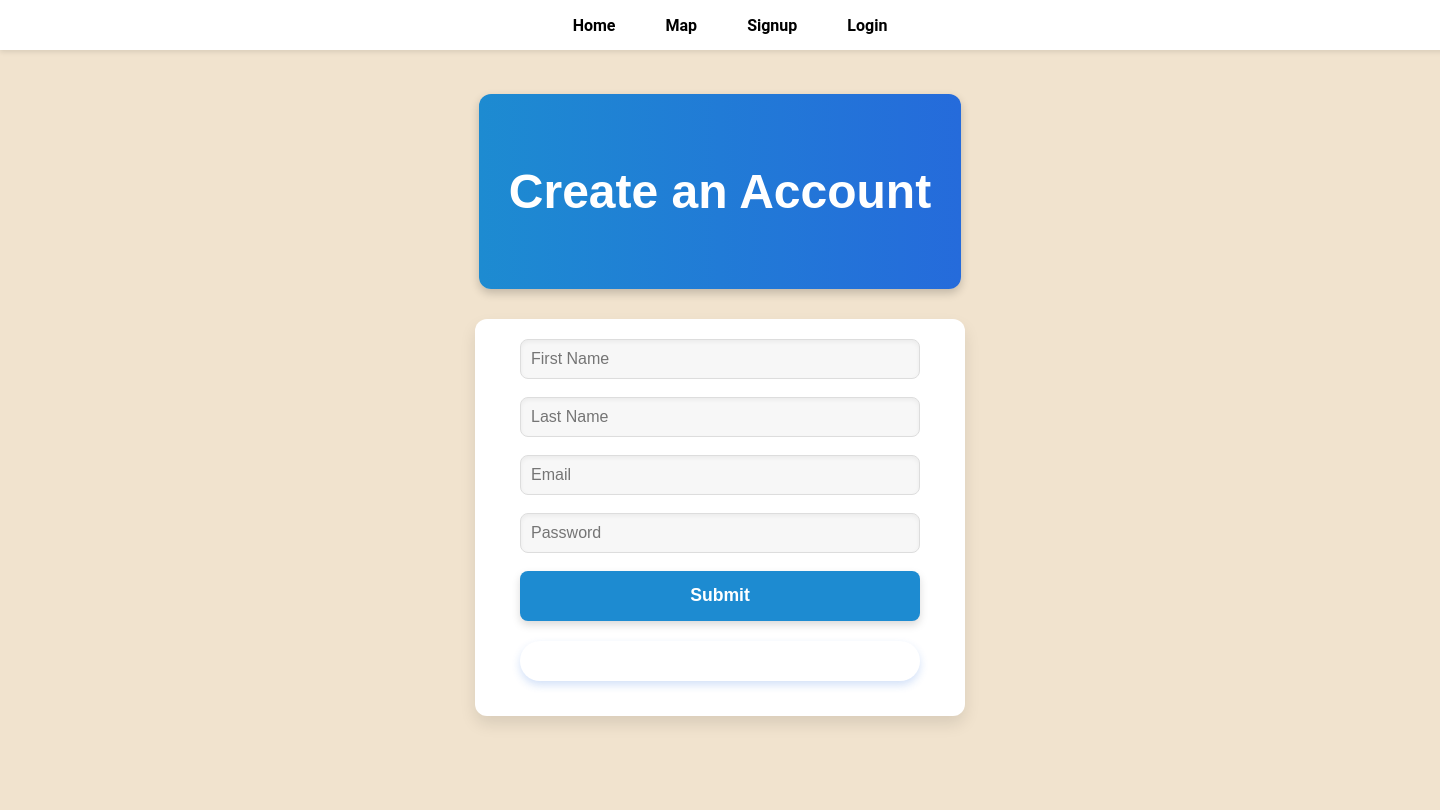
Signup Component › should show error message when email is already taken
The image size is (1440, 810).
Type "John" into the field with placeholder "First Name".
click(720, 359); type("John")  # box [520,339,920,379]
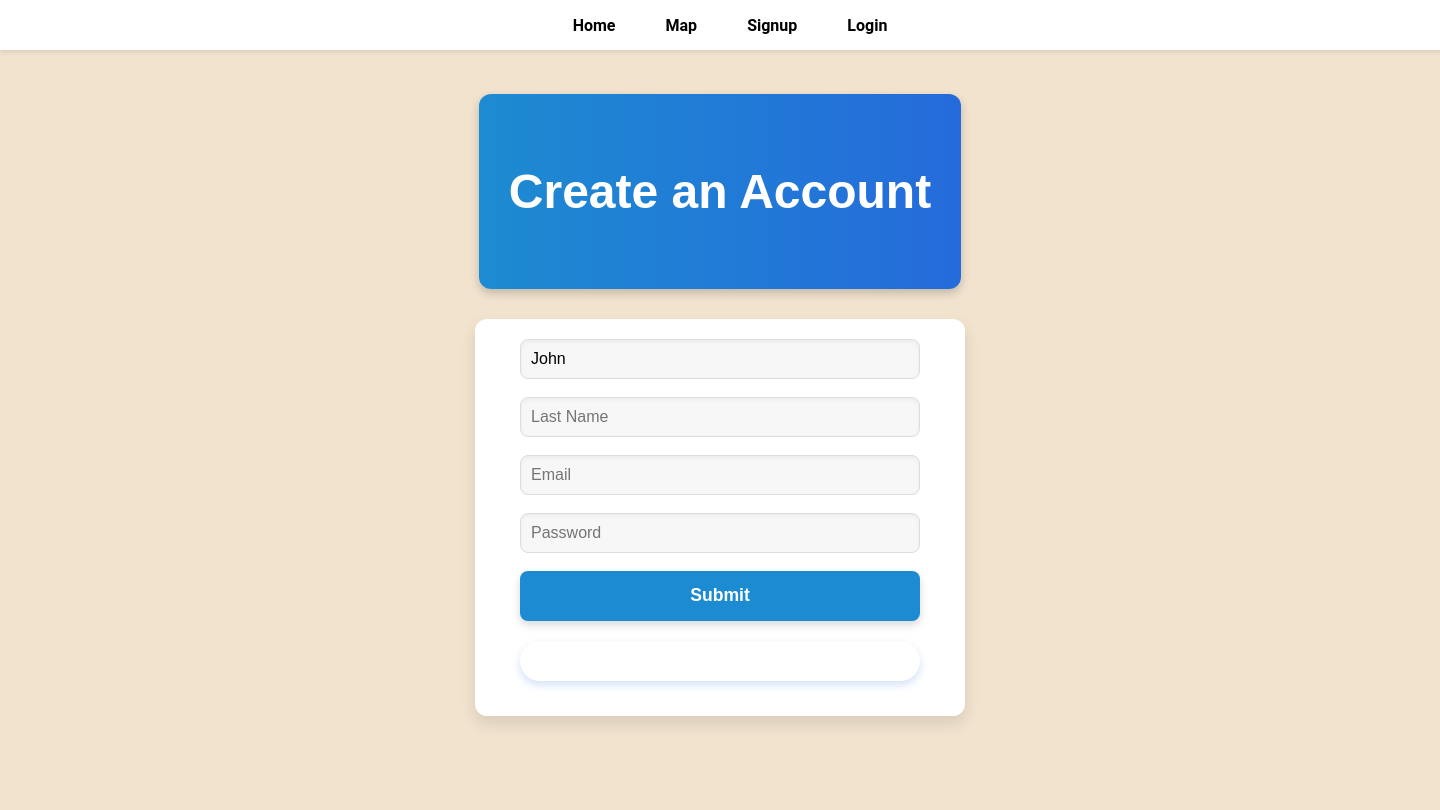
Type "Doe" into the field with placeholder "Last Name".
click(720, 417); type("Doe")  # box [520,397,920,437]
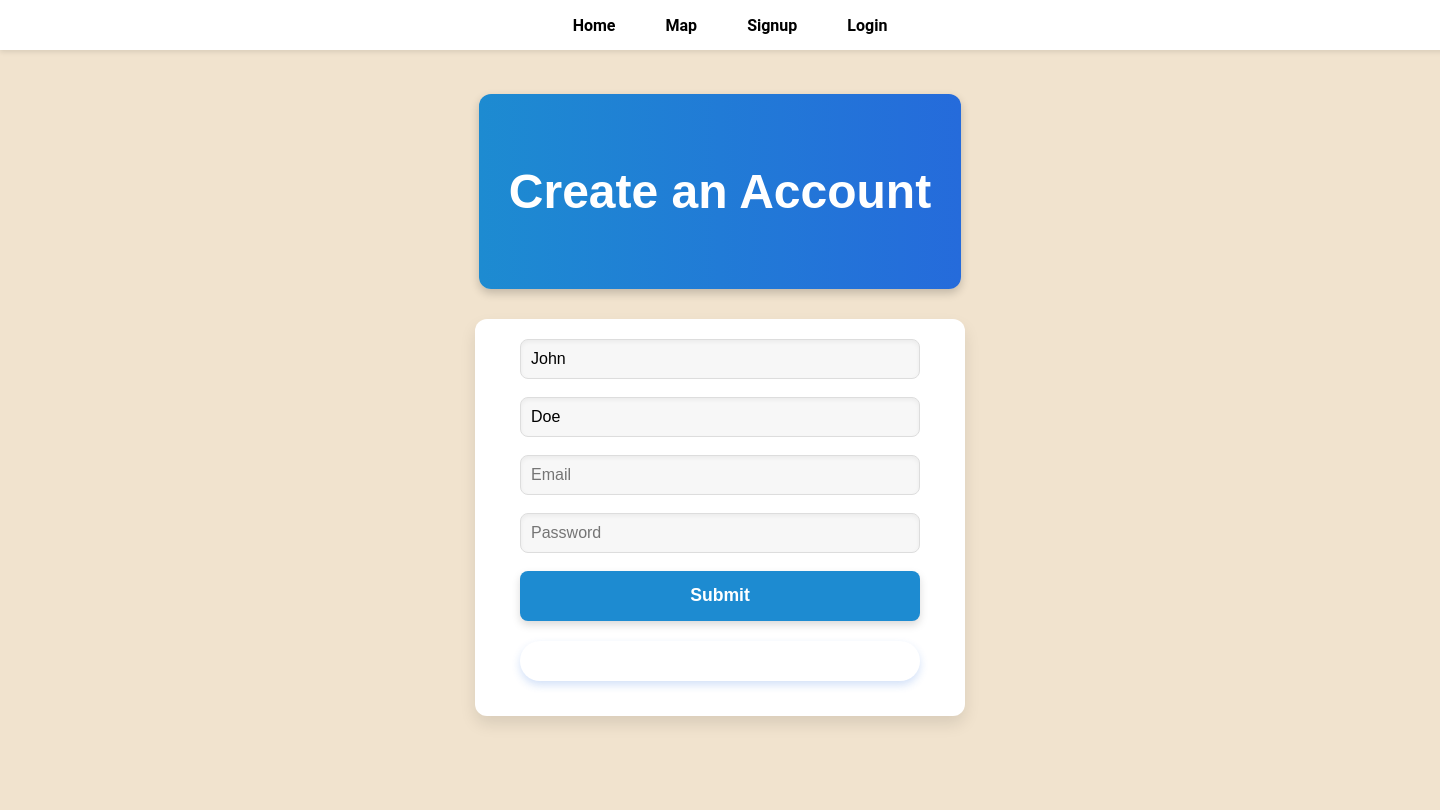
Type "johndoe@test.com" into the field with placeholder "Email".
click(720, 475); type("johndoe@test.com")  # box [520,455,920,495]
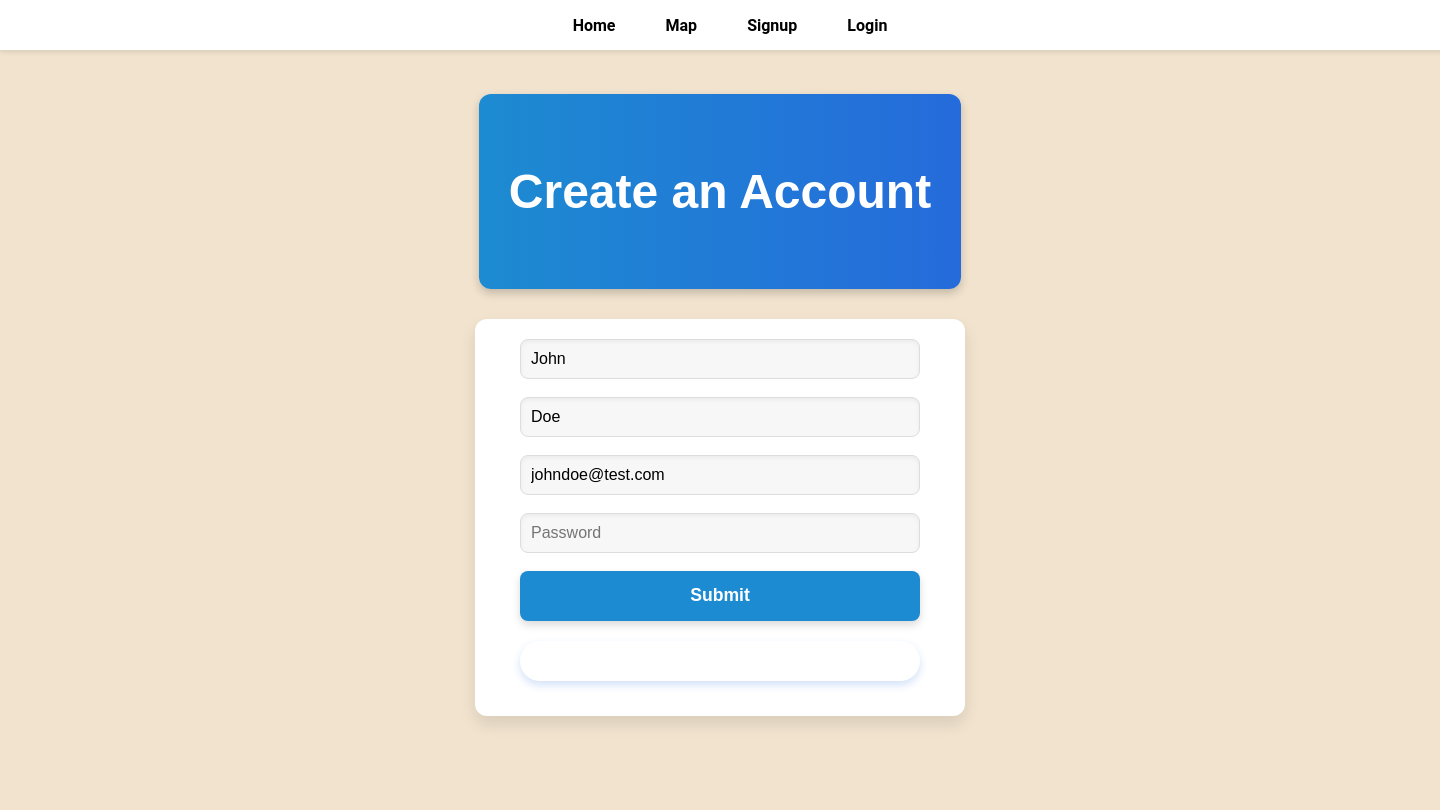
Type "password123" into the password field with placeholder "Password".
click(720, 533); type("password123")  # box [520,513,920,553]
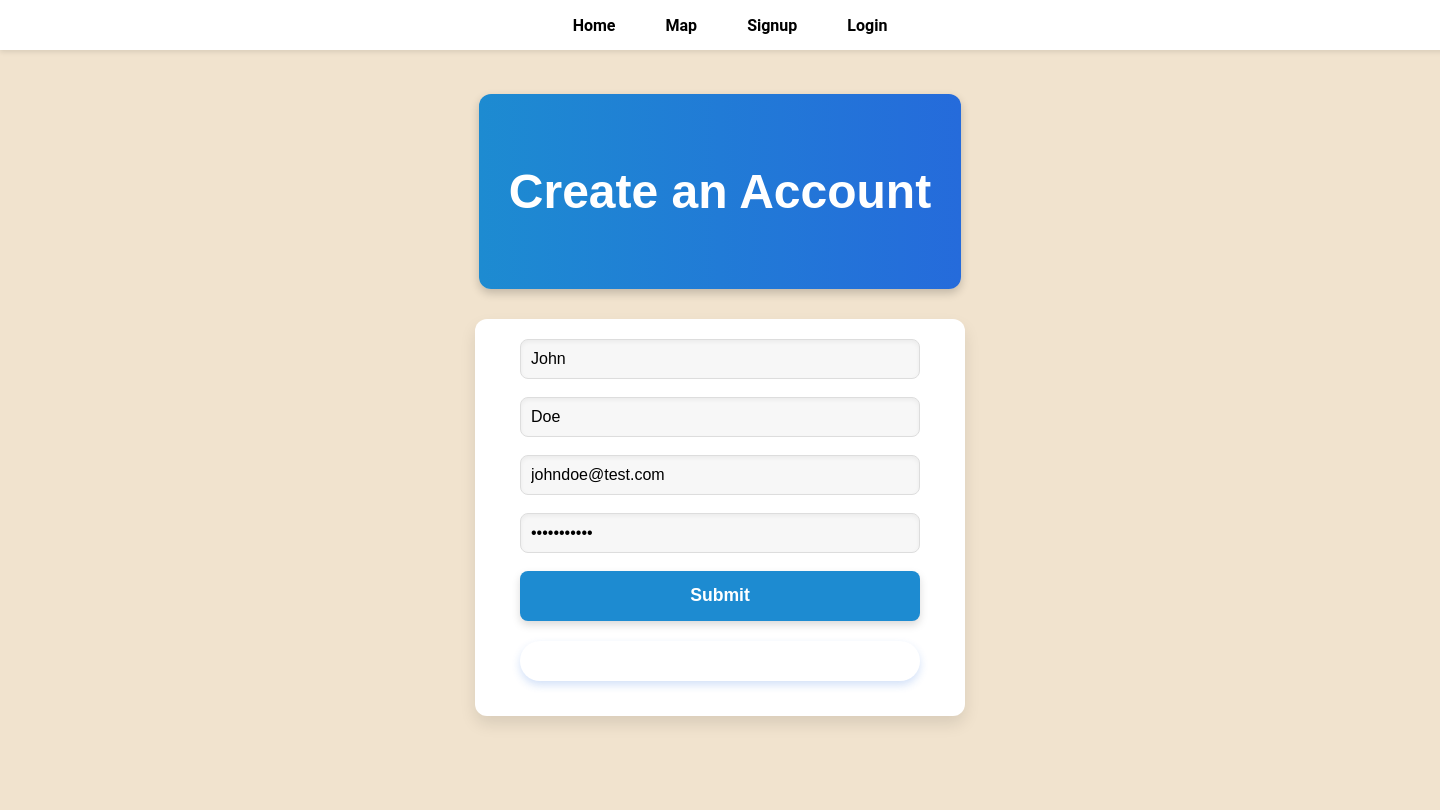
Click the button "Submit".
click(720, 596)  # box [520,571,920,621]
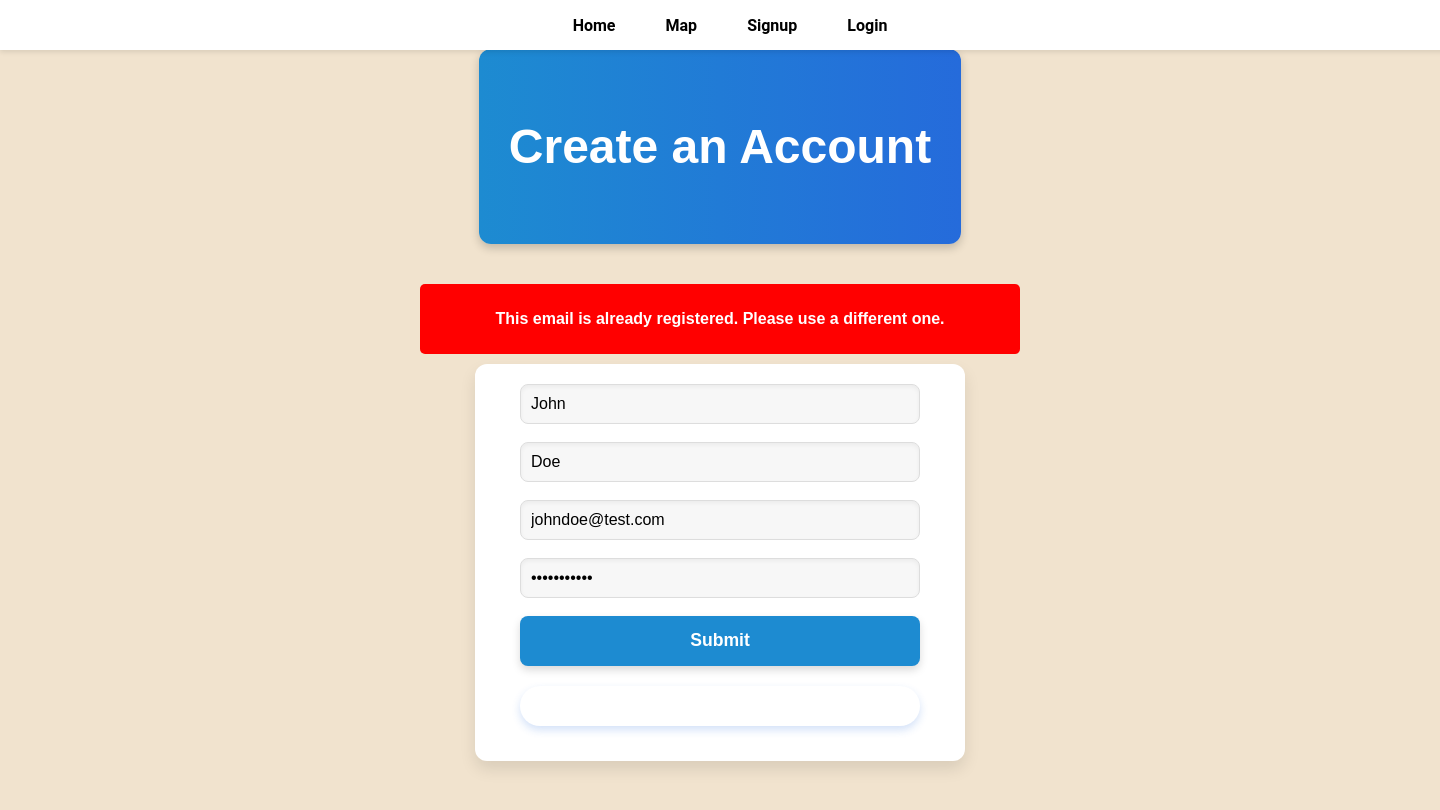
Result: the text "This email is already registered. Please use a different one." is shown at [496,310,945,327]
